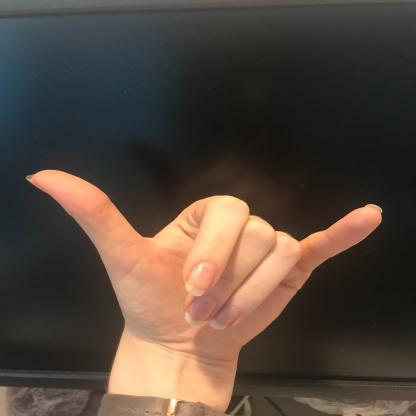Y: (22, 166, 386, 348)
